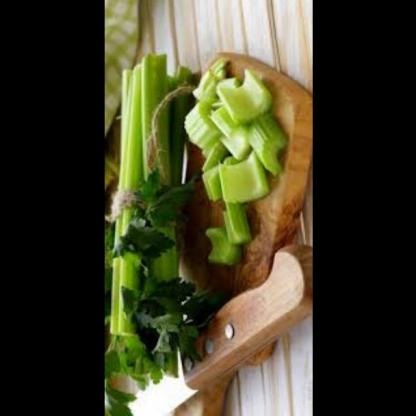celery: (103, 53, 199, 384), (180, 53, 295, 210), (205, 198, 258, 271)
